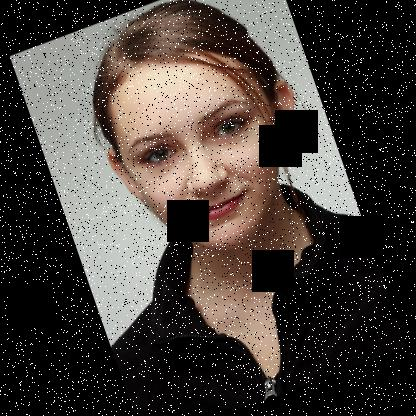Female: (80, 16, 332, 279)
